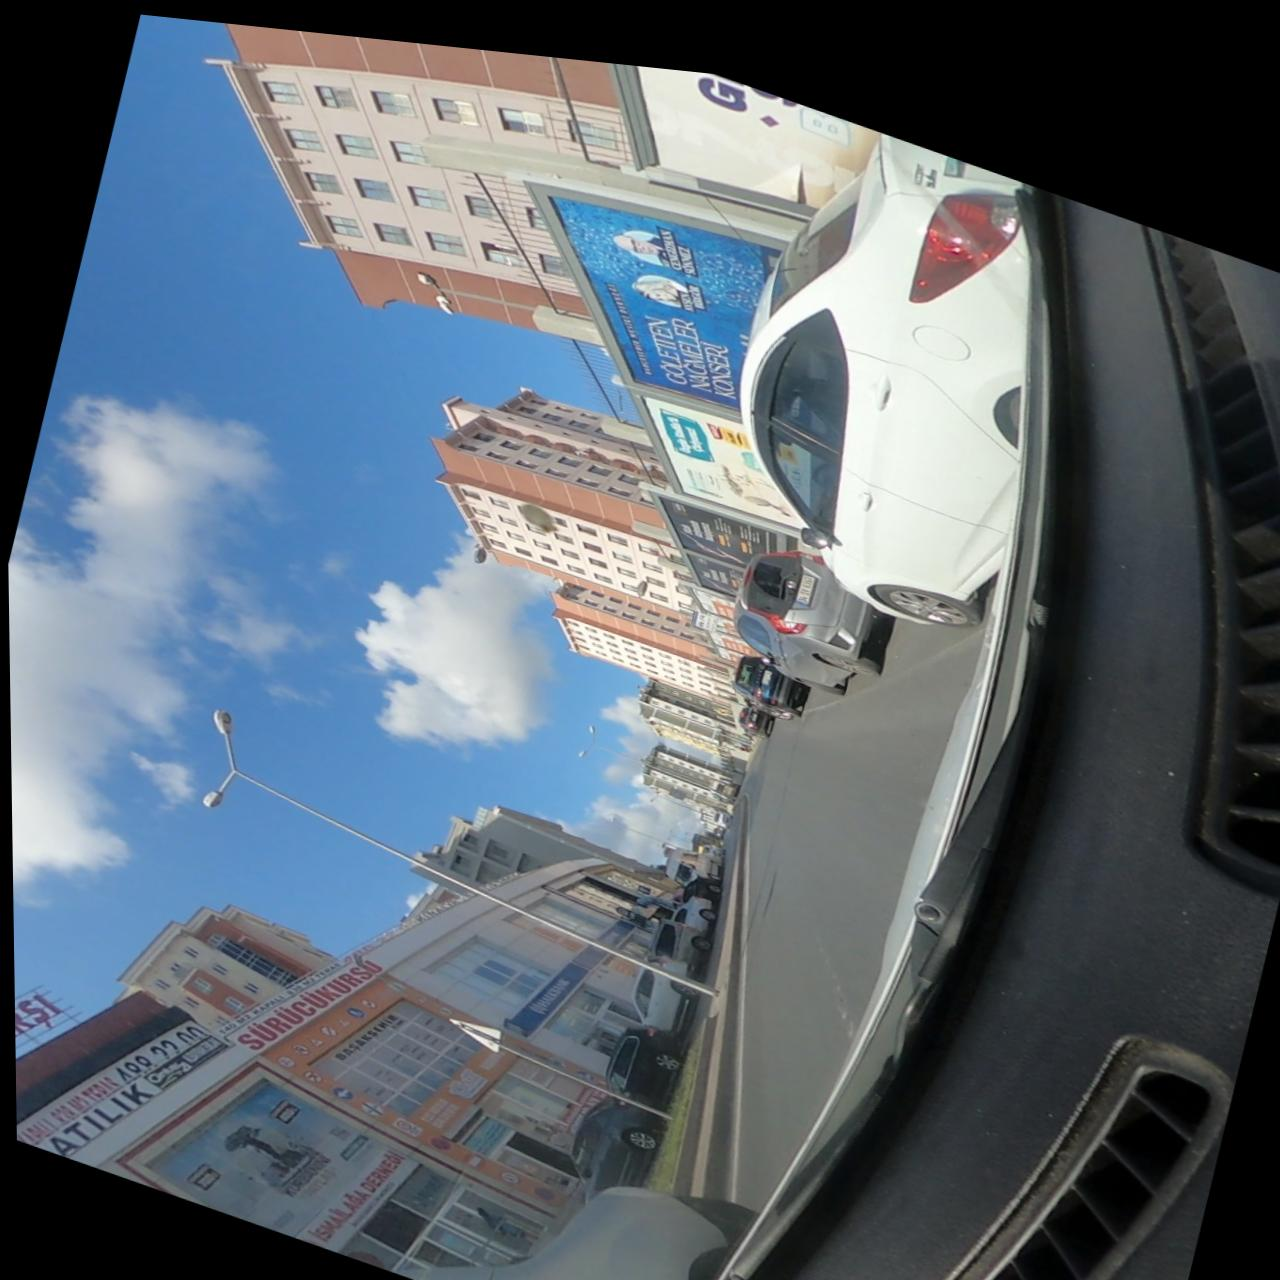SignStore: (291, 1138, 415, 1245), (517, 954, 580, 1008), (435, 1050, 496, 1096), (597, 911, 628, 932)
